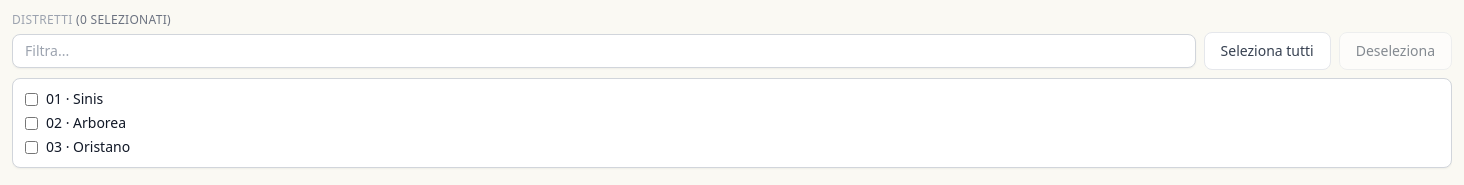
Scenario: MultiSelectChecklist › shows a message when the filter matches nothing
Type "zzz" into the search field named "Filtra distretti".
click(604, 51); type("zzz")  # box [12,34,1196,68]
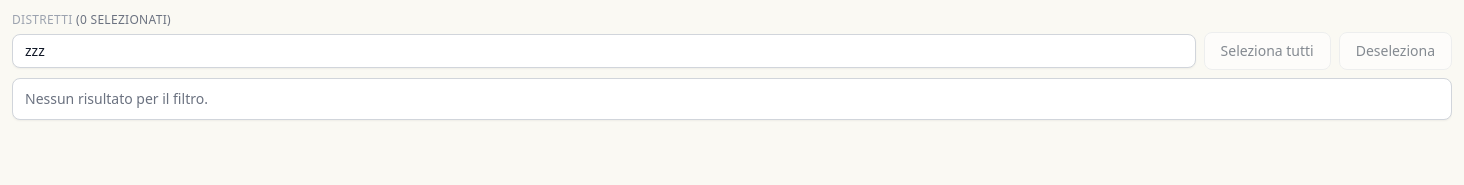
Now the text "Nessun risultato per il filtro." is shown, box [25,89,208,108]
Now the button "Seleziona tutti" is disabled, box [1204,32,1331,70]
